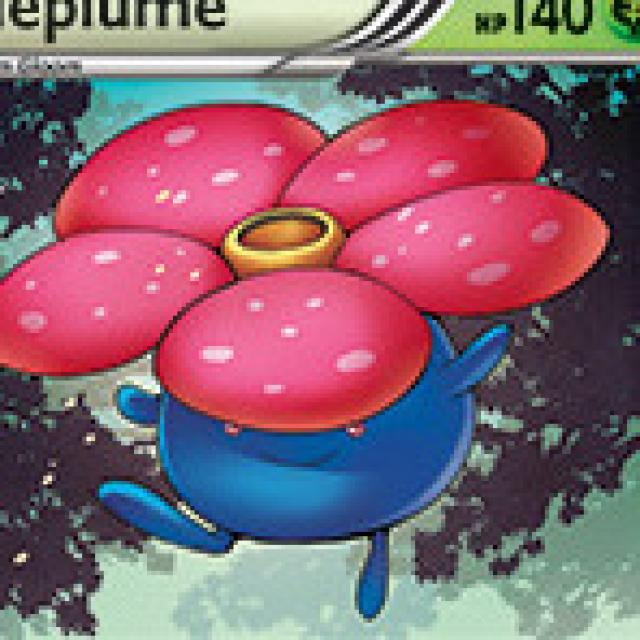Vileplume: (58, 97, 516, 555)
